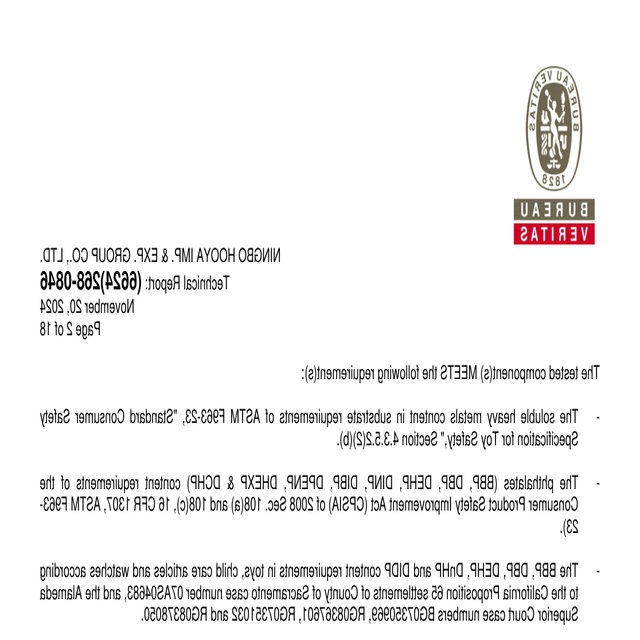bureau_veritas: (514, 68, 598, 248)
